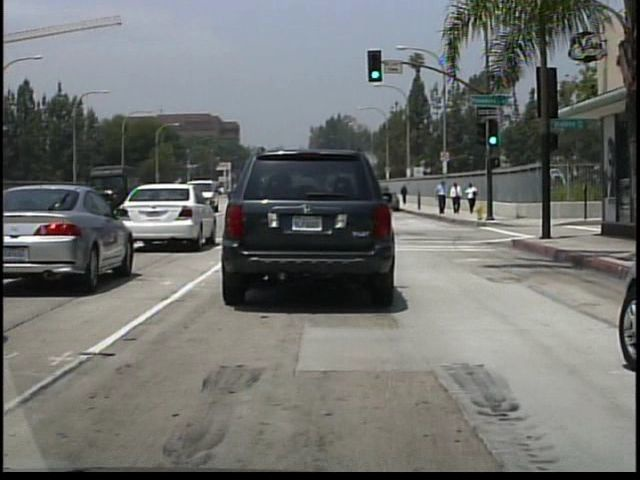person: (438, 178, 452, 217), (450, 183, 464, 217), (467, 181, 480, 215), (400, 183, 410, 206)
